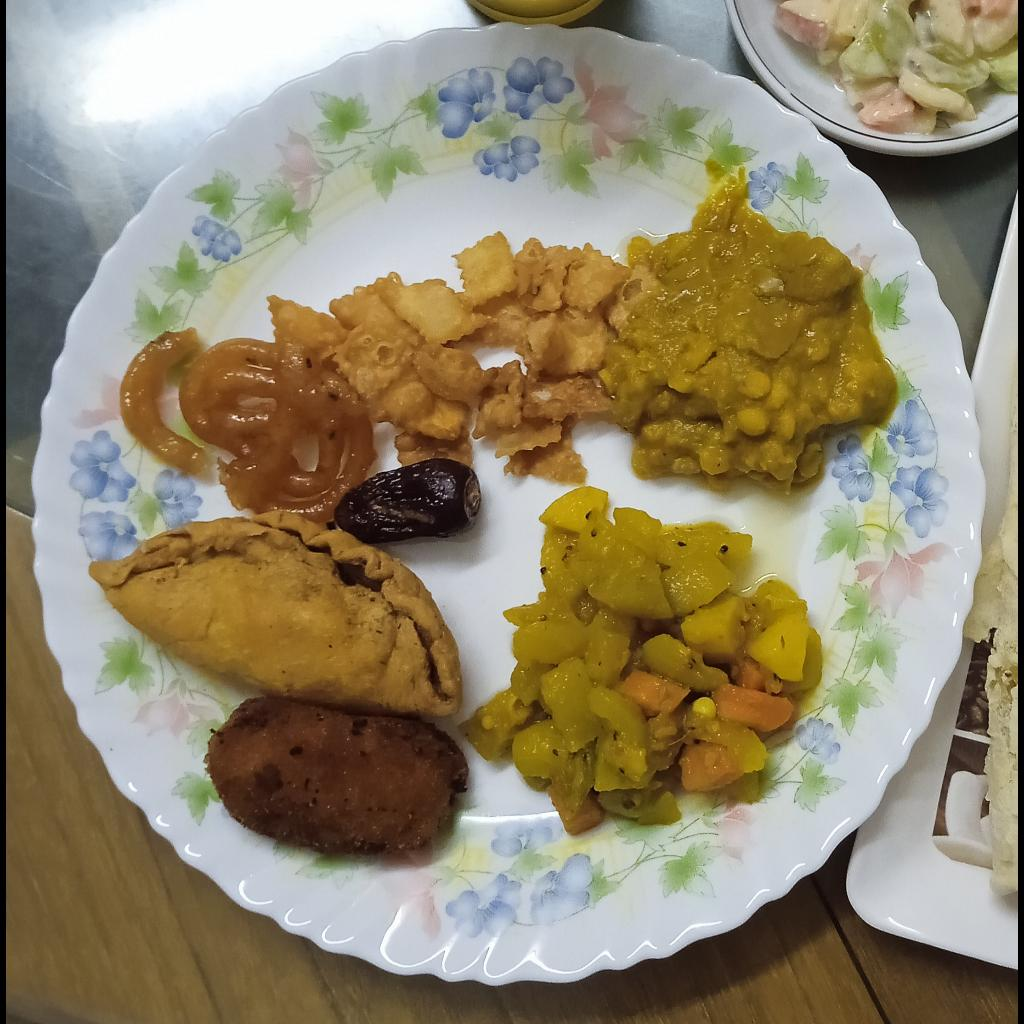chomchom: (267, 230, 669, 483)
chop-alu: (206, 696, 471, 854)
daal: (600, 178, 897, 497)
dates: (334, 457, 480, 544)
jilapi: (119, 326, 379, 523)
salad: (755, 0, 1018, 136)
sweets: (86, 510, 465, 715)
vegetable: (455, 487, 823, 837)
